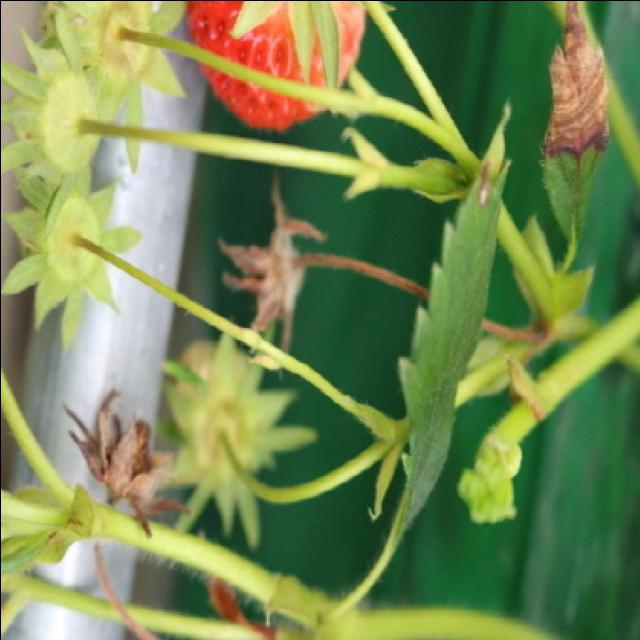Gray Mold: (219, 177, 338, 351), (58, 387, 190, 537)
